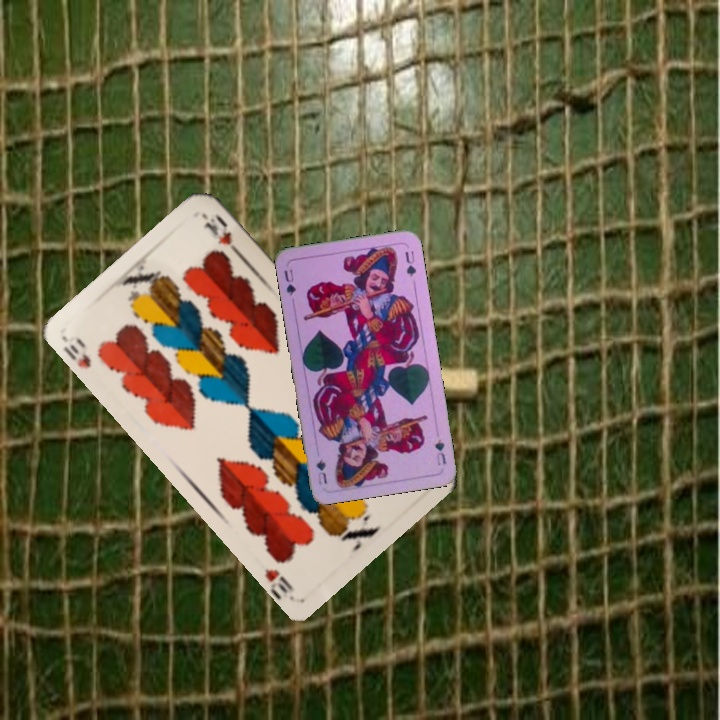GU: (280, 265, 299, 298), (431, 435, 448, 468)
H10: (59, 340, 94, 372)
